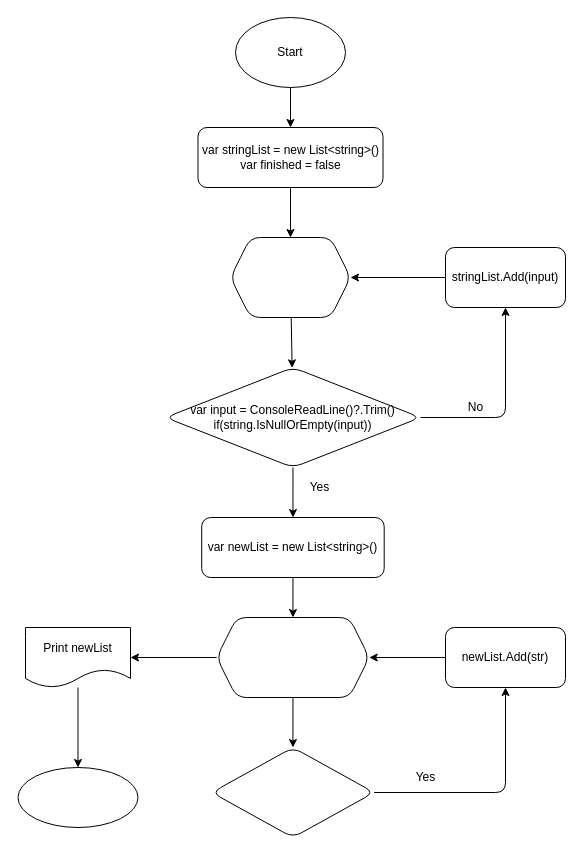
Some shapes in this 583 by 855 pixel diagram are drawn without their labels. Here are the shapes that lost their labels. From the top down, the centre of each, then its label:
At point 290,277: "while(!finished)".
At point 292,657: "foreach(var str in stringList)".
At point 77,797: "End".
At point 292,792: "if(str.lenght <= 3)".
